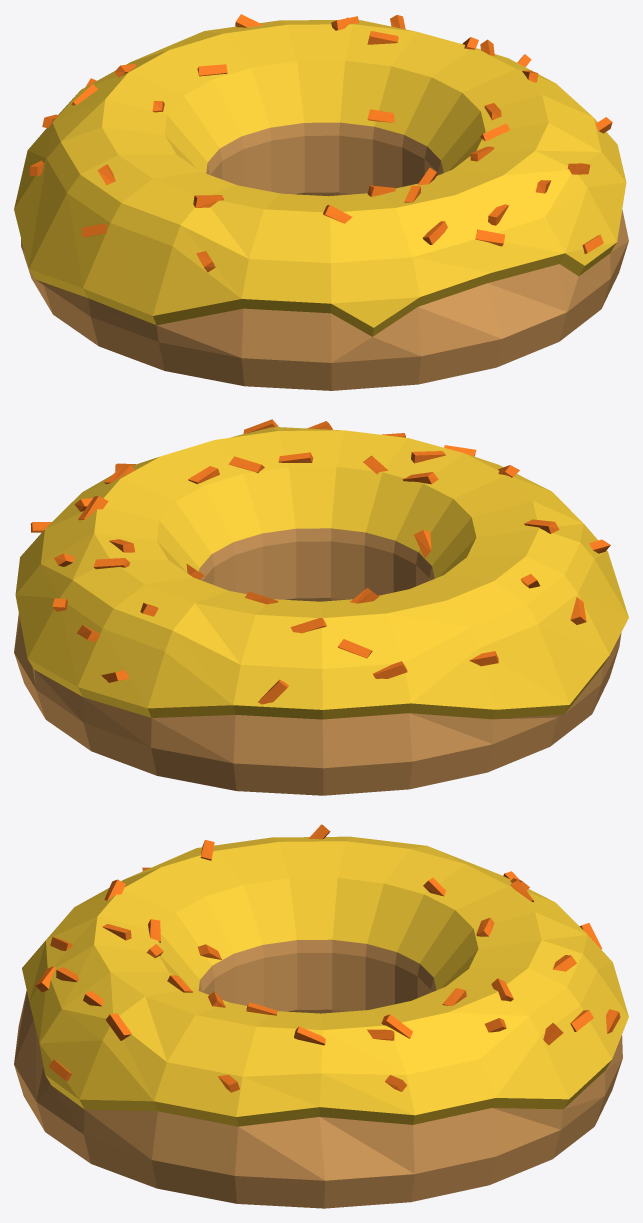
File: Donut2.obj
3 renders of one model, top to bottom at view 1: azimuth 30°, elevation 25°; view 2: azimuth 150°, elevation 25°; view 3: azimuth 270°, elevation 25°, orthographic.
Visible parts, largest first — view 1: Donut2_Yellow, Donut2_LightYellow, Donut2_Orange; view 2: Donut2_Yellow, Donut2_LightYellow, Donut2_Orange; view 3: Donut2_Yellow, Donut2_LightYellow, Donut2_Orange.
Part boxes in pixels (<box>): Donut2_Yellow: <box>14,20,626,336</box>; Donut2_LightYellow: <box>21,122,628,390</box>; Donut2_Orange: <box>29,14,612,272</box>; Donut2_Yellow: <box>15,427,628,719</box>; Donut2_LightYellow: <box>14,528,621,795</box>; Donut2_Orange: <box>30,419,610,704</box>; Donut2_Yellow: <box>22,836,628,1126</box>; Donut2_LightYellow: <box>14,939,622,1208</box>; Donut2_Orange: <box>35,824,620,1092</box>.
Bounding box in the file's own units: 0.8795 × 0.2914 × 0.8673.
